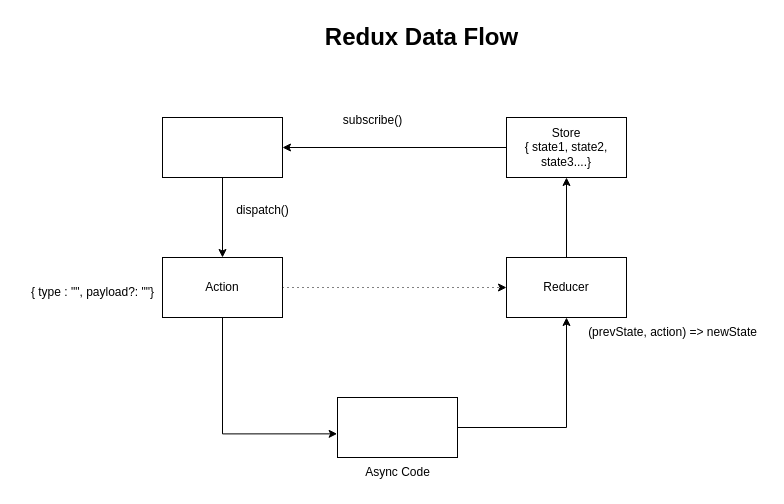
Image size: 784x504. Some labels were removed from this diagram. Each missing label, with the centre of its shape:
"Middleware" goes at point (397, 427).
"View (React App)" goes at point (222, 147).
